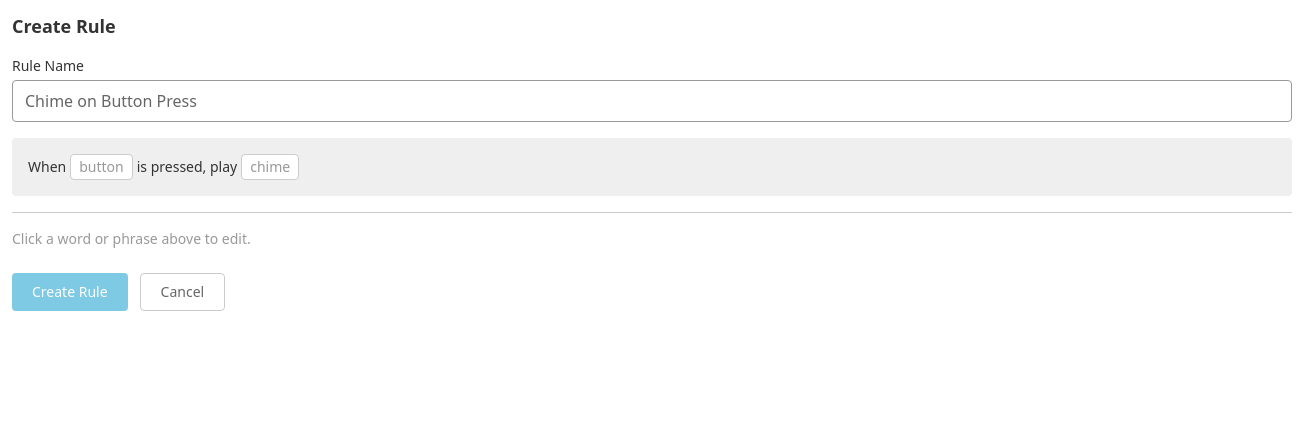
RulePanel (create mode) › shows device radio list when device variable clicked
This screenshot has width=1304, height=424.
Click the button "button".
click(101, 167)  # box [70, 154, 133, 180]
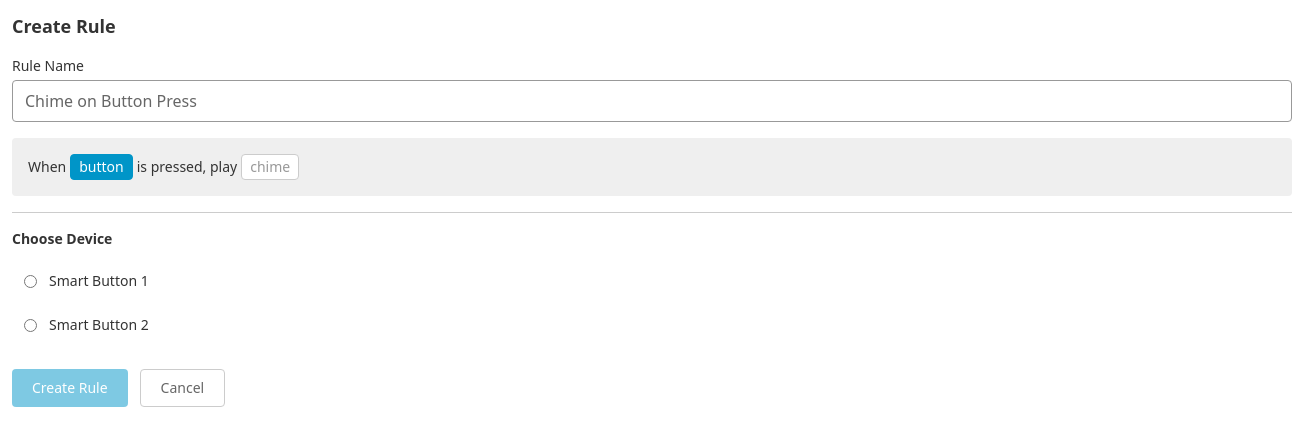
Expected: the heading "Choose Device" is shown, [12, 229, 112, 248]
Expected: the text "Smart Button 1" is shown, [49, 271, 149, 291]
Expected: the text "Smart Button 2" is shown, [49, 315, 149, 335]
